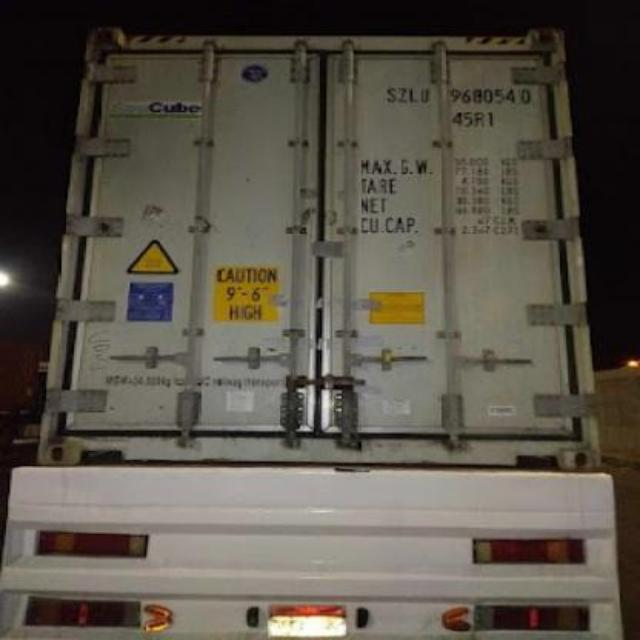0: (518, 86, 534, 110), (480, 84, 492, 108)
4: (504, 85, 516, 109)
5: (494, 85, 504, 105)
6: (460, 84, 470, 106)
8: (468, 83, 480, 107)
9: (446, 83, 458, 107)
L: (406, 84, 416, 106)
S: (384, 84, 396, 106)
U: (418, 84, 430, 106)
Z: (396, 84, 406, 106)
